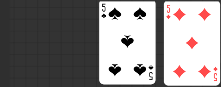5C: (148, 64, 155, 82)
